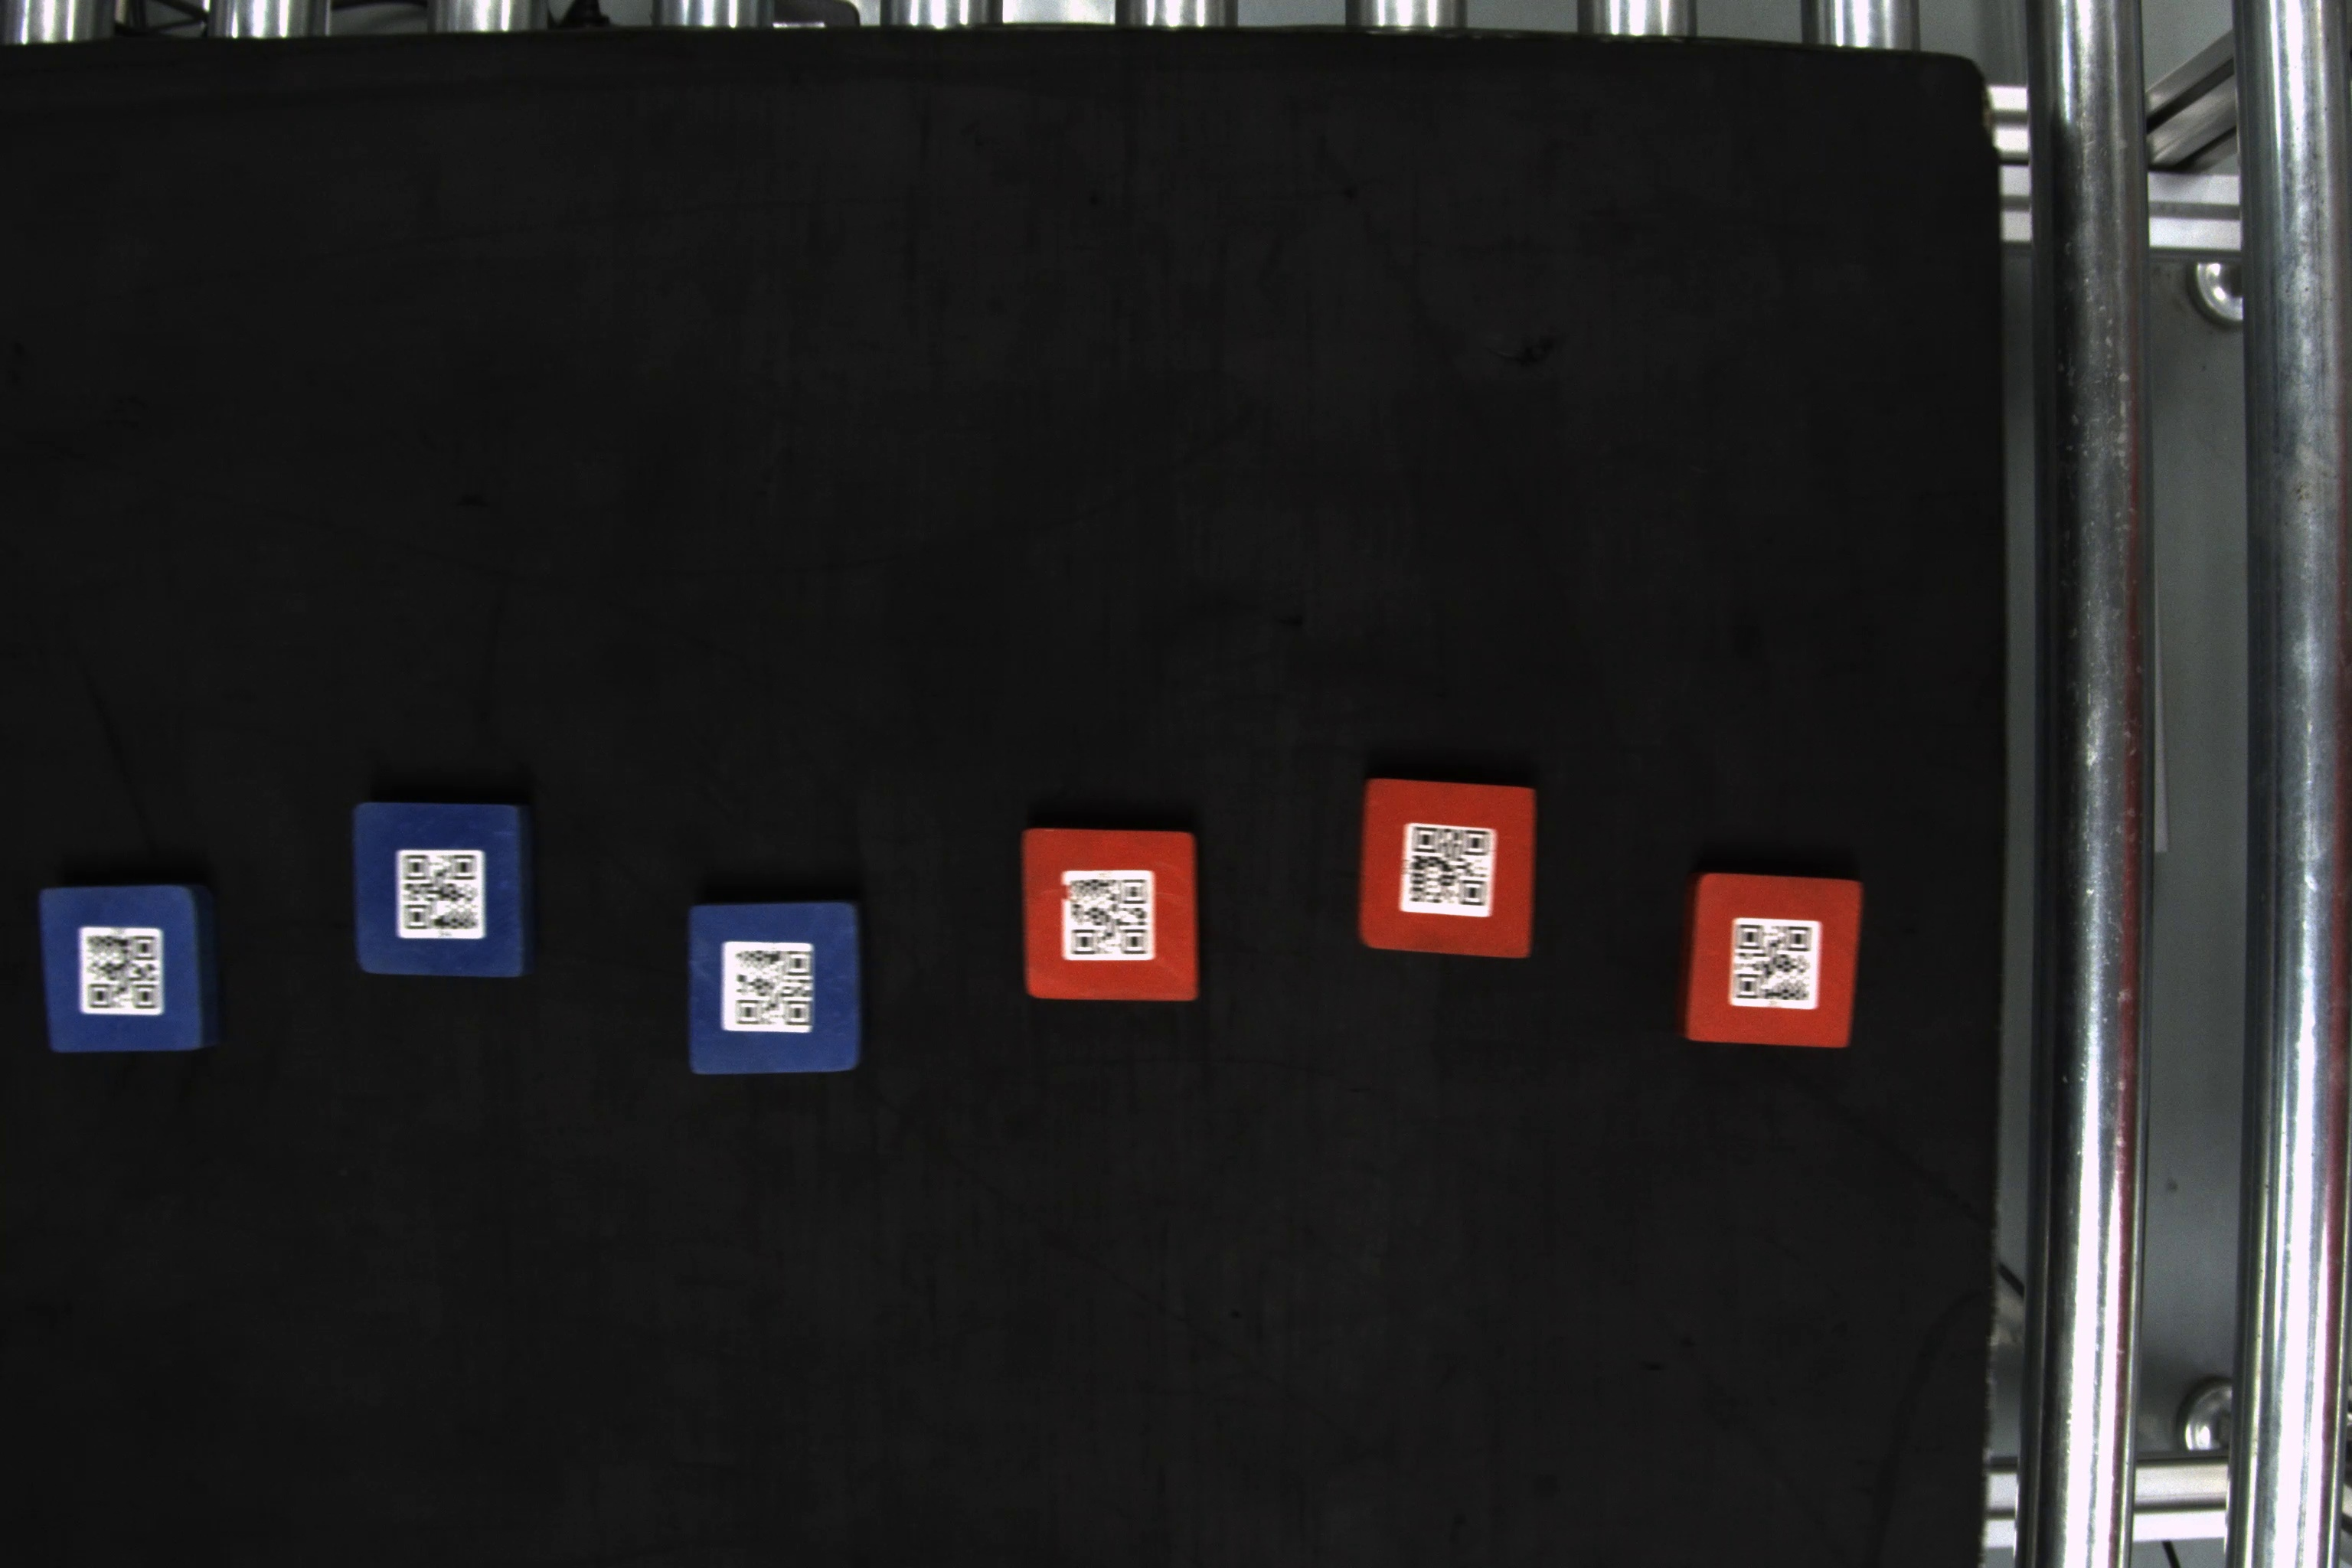wood: (352, 793, 541, 987), (681, 898, 871, 1083), (1013, 821, 1202, 1003), (33, 880, 224, 1060), (1358, 768, 1535, 957), (1685, 864, 1858, 1050)
